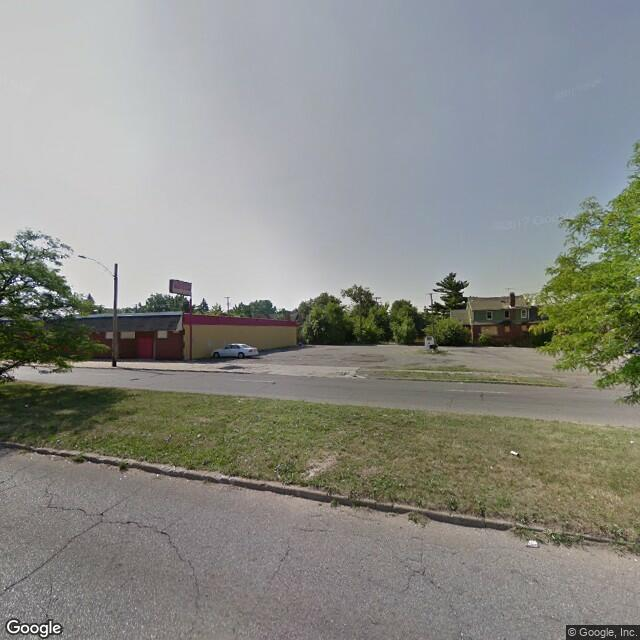litter: (522, 534, 544, 552), (504, 444, 522, 462), (625, 434, 638, 449)
